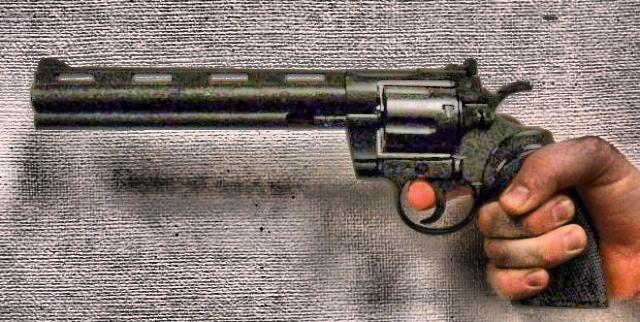pistol: (26, 53, 606, 309)
